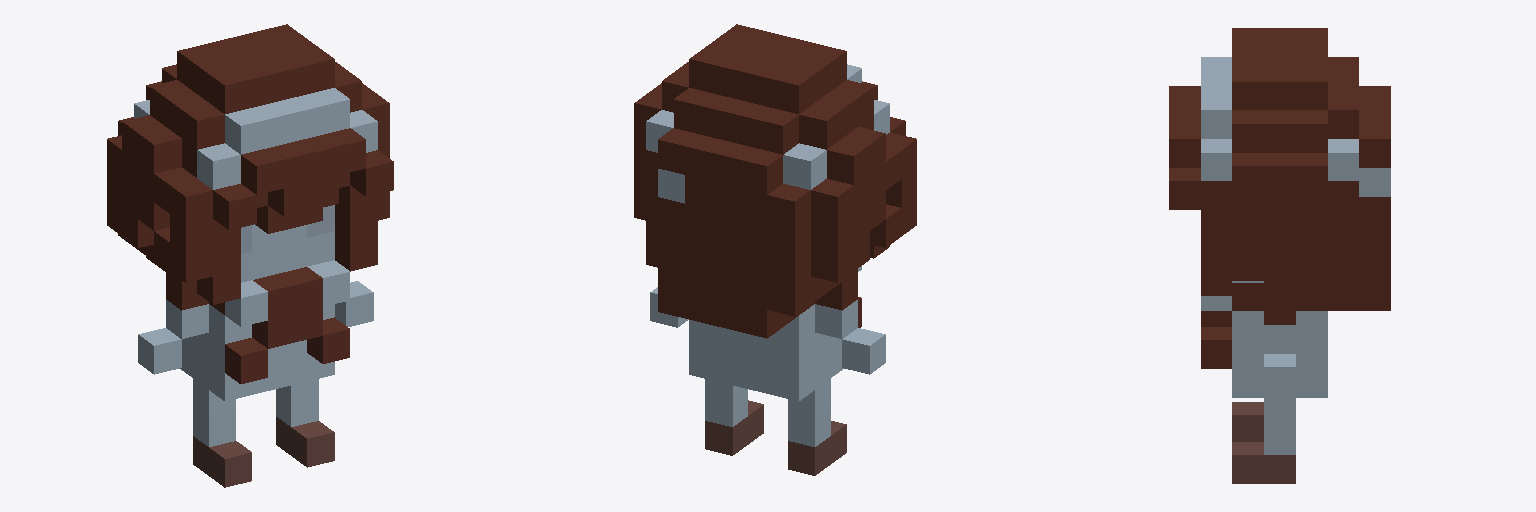
3 views of the same model, side by side, from view 1: azimuth 30°, elevation 25°; view 2: azimuth 150°, elevation 25°; view 3: azimuth 270°, elevation 25° (orthographic).
Visible parts, largest first — view 1: boy3-1; view 2: boy3-1; view 3: boy3-1.
Part boxes in pixels (x1,y1,x2,y2): boy3-1: (107, 24, 393, 487); boy3-1: (634, 24, 916, 475); boy3-1: (1169, 28, 1390, 483).
Size of the model in its own units: 8 by 14 by 7.
1 materials, 1 textured.